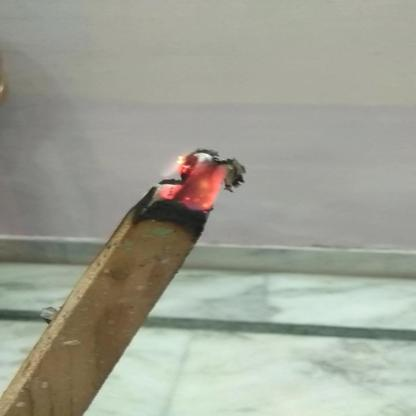fire: (158, 144, 230, 210)
